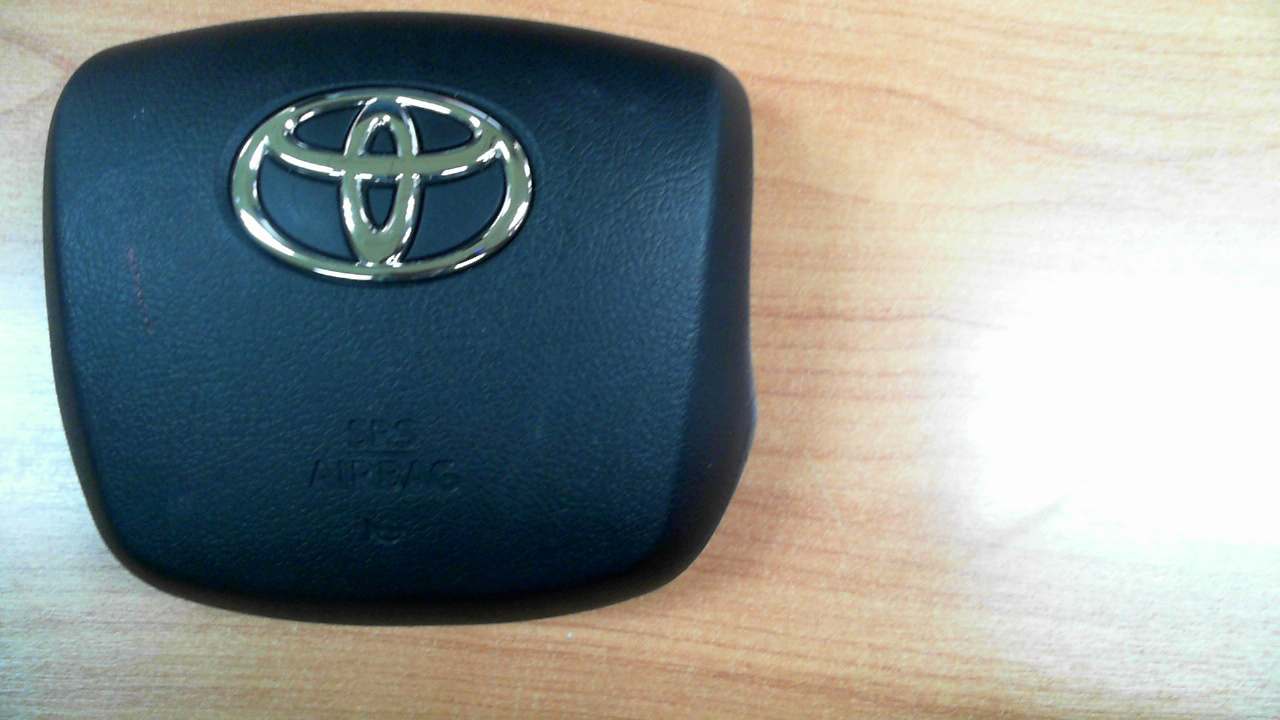Airbag: (40, 9, 757, 628)
Toyota: (232, 87, 533, 281)
